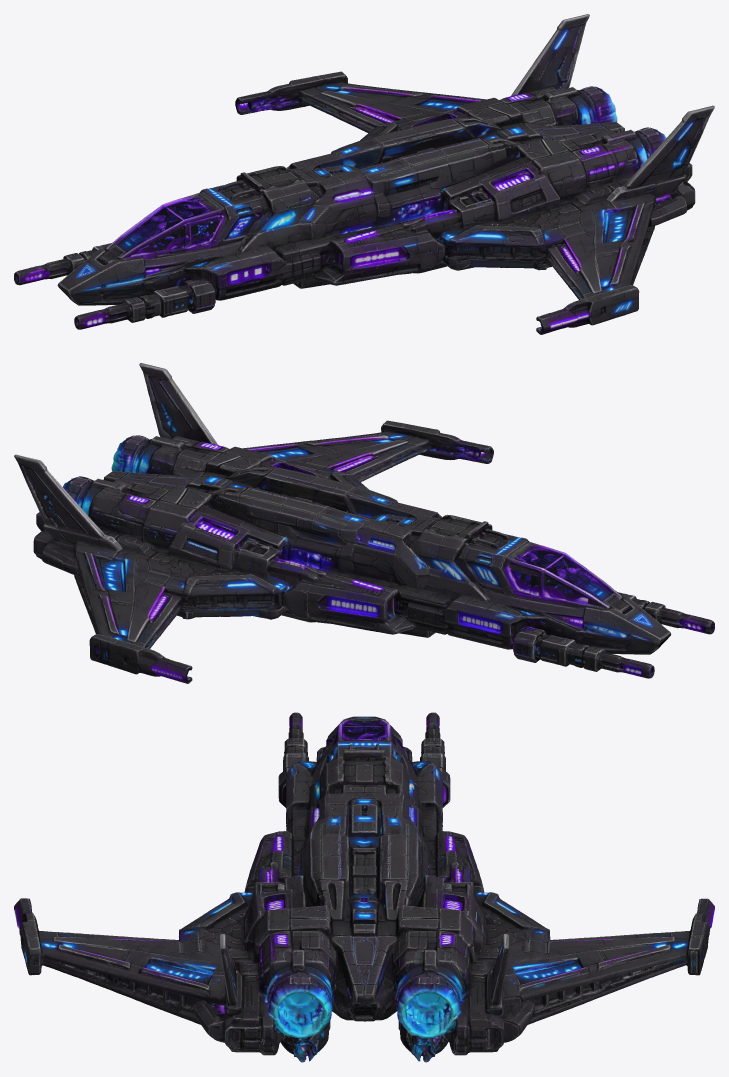
The model's file is Meshy_AI_Sci_Fi_Fighter_Ship_0625034515_image-to-3d-texture.glb.
3 views of the same model, one above another, from view 1: azimuth 30°, elevation 25°; view 2: azimuth 150°, elevation 25°; view 3: azimuth 270°, elevation 25° (orthographic). The views are drawn at different scales.
Size of the model in its own units: 1.9 by 0.4148 by 1.68.
1 material, 1 textured.
